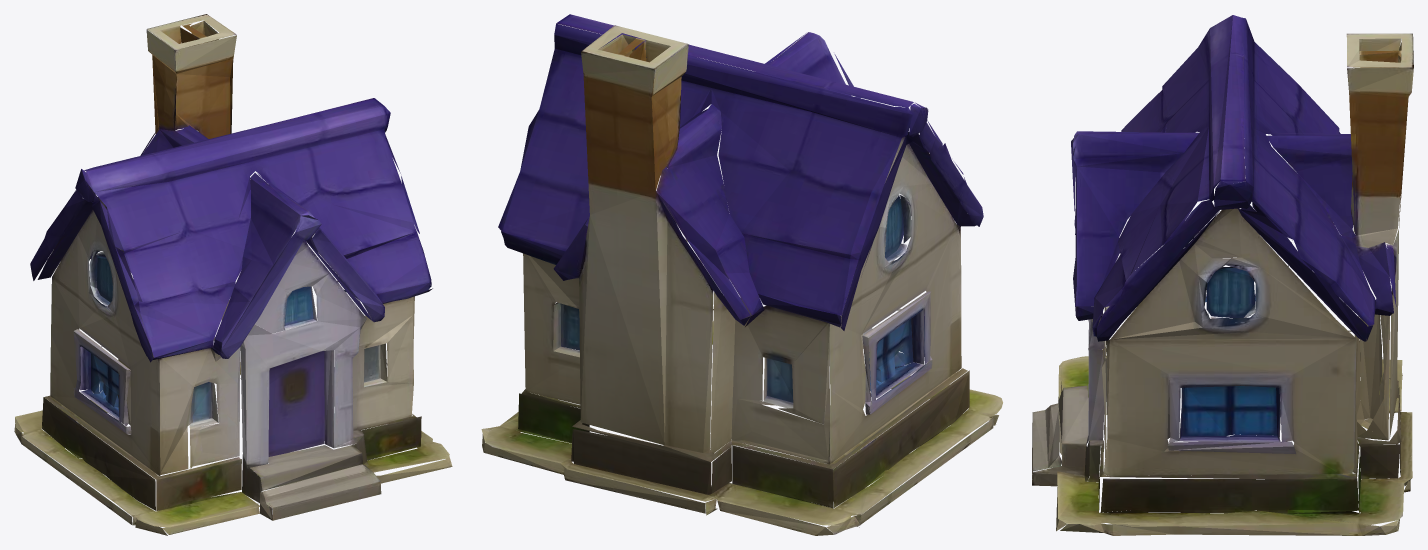
The model's file is purple_roof_house.glb.
3 renders of one model, left to right at view 1: azimuth 30°, elevation 25°; view 2: azimuth 150°, elevation 25°; view 3: azimuth 270°, elevation 25°, orthographic. The views are drawn at different scales.
Parts seen in each view (by area): view 1: geometry_0; view 2: geometry_0; view 3: geometry_0.
Boxes of the visible parts, <box> form: geometry_0: <box>14,14,452,535</box>; geometry_0: <box>481,14,1002,535</box>; geometry_0: <box>1032,15,1413,535</box>.
Size of the model in its own units: 0.4244 by 0.4812 by 0.3968.
1 material, 1 textured.
